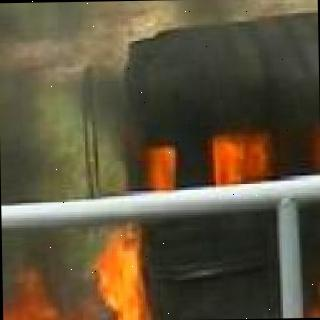fire: (12, 230, 155, 320), (147, 125, 320, 181), (308, 214, 320, 317)
